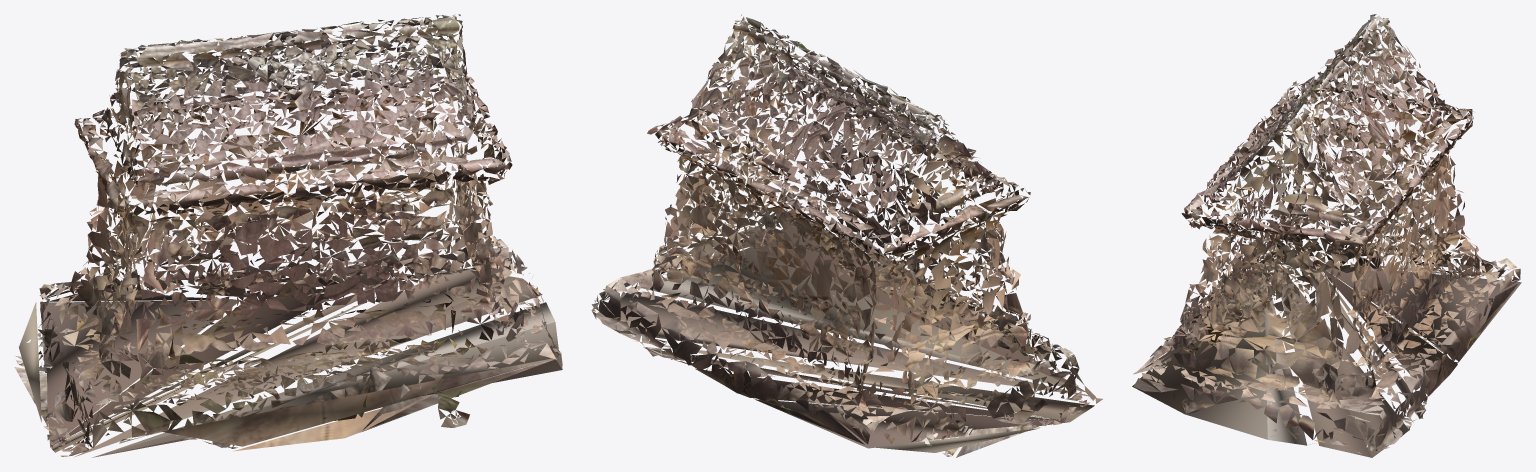
Rendered from tomb_raised.glb.
3 views of the same model, side by side, from view 1: azimuth 30°, elevation 25°; view 2: azimuth 150°, elevation 25°; view 3: azimuth 270°, elevation 25° (orthographic). The views are drawn at different scales.
Visible parts, largest first — view 1: Object_2, Object_5, Object_3, Object_4; view 2: Object_2, Object_5, Object_3, Object_4, Object_6; view 3: Object_4, Object_5, Object_2, Object_3, Object_6.
Part boxes in pixels (x1,y1,x2,y2): Object_2: [41, 14, 523, 446]; Object_5: [18, 14, 562, 457]; Object_3: [15, 20, 556, 456]; Object_4: [14, 17, 562, 455]; Object_2: [641, 20, 1077, 432]; Object_5: [595, 14, 1094, 452]; Object_3: [607, 16, 1102, 456]; Object_4: [591, 17, 1096, 457]; Object_6: [629, 18, 1077, 378]; Object_4: [1134, 14, 1520, 450]; Object_5: [1132, 20, 1521, 457]; Object_2: [1173, 15, 1516, 399]; Object_3: [1133, 22, 1507, 415]; Object_6: [1151, 42, 1446, 432].
Bounding box in the file's own units: 18.08 × 11.8 × 13.46.
1 material, 1 textured.
